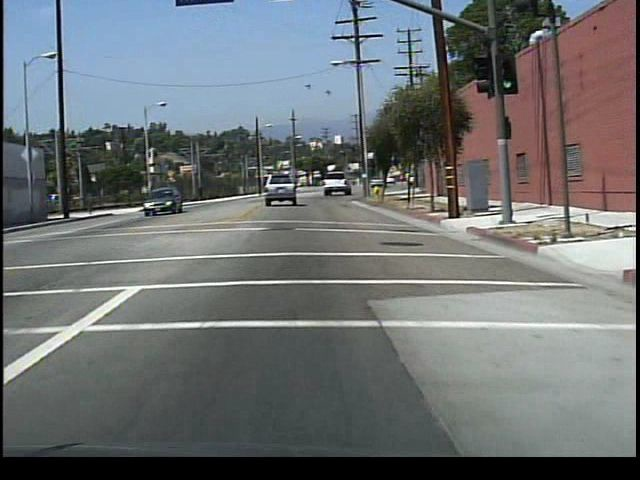person: (197, 184, 208, 205)
